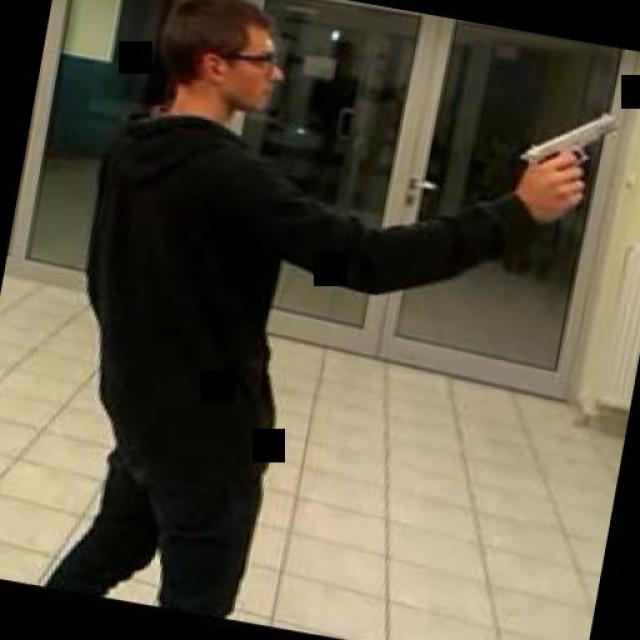gun: (509, 95, 620, 203)
